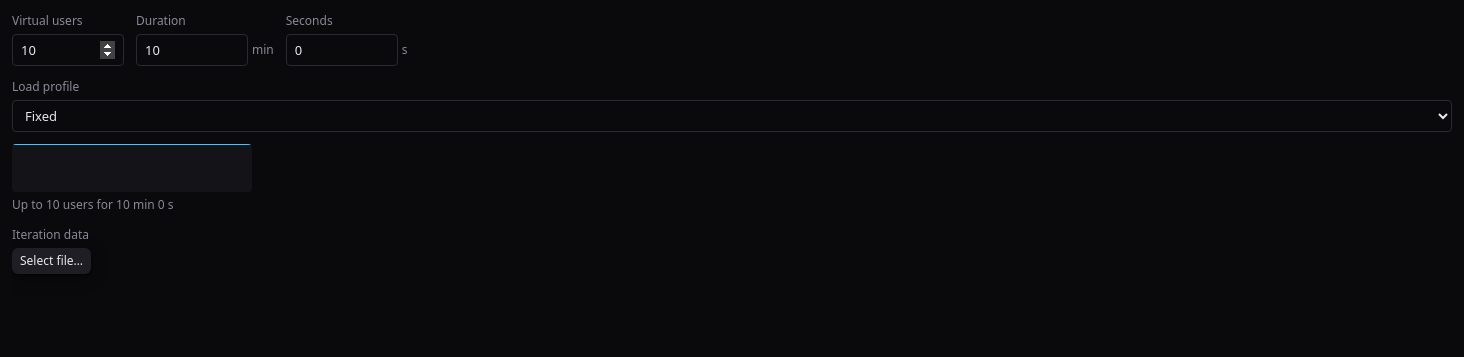
Scenario: PerformanceSettings › shows the spike and peak parameters with their defaults
The image size is (1464, 357).
Select "Spike" in the dropdown labelled "Load profile": (732, 116) [12,100,1452,132]
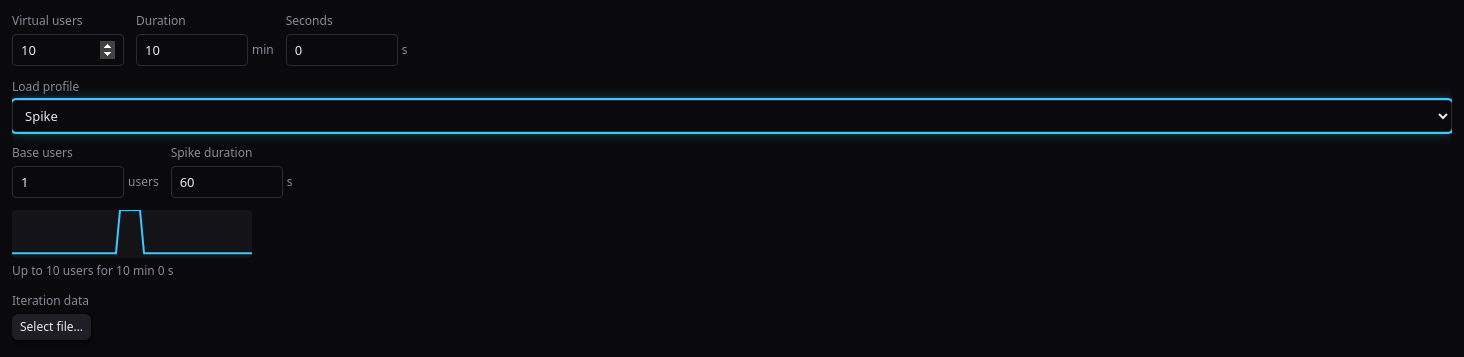
Check: the number field labelled "Spike duration s" holds "60", box [171,166,283,198]
Select "Peak" in the dropdown labelled "Load profile": (732, 116) [12,100,1452,132]
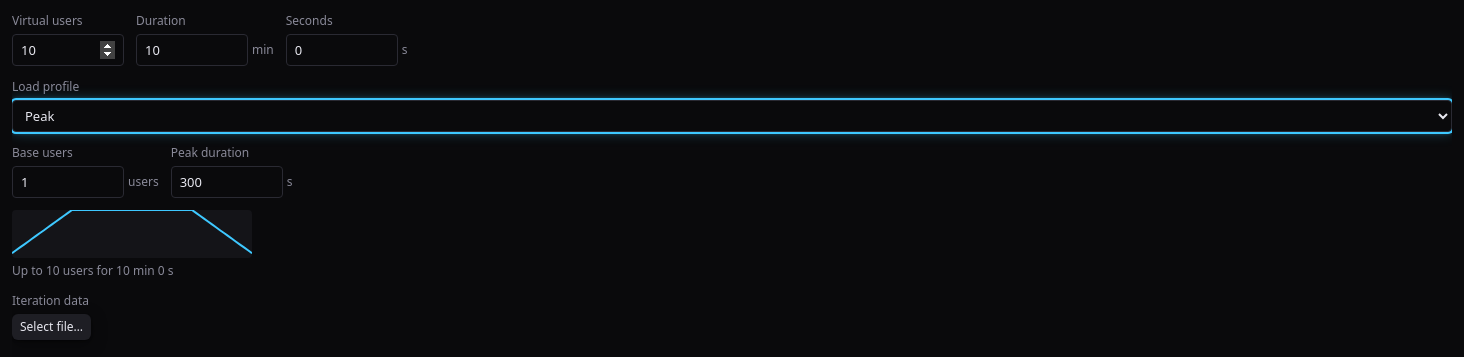
Check: the number field labelled "Base users users" holds "1", box [12,166,124,198]
Check: the number field labelled "Peak duration s" holds "300", box [171,166,283,198]
